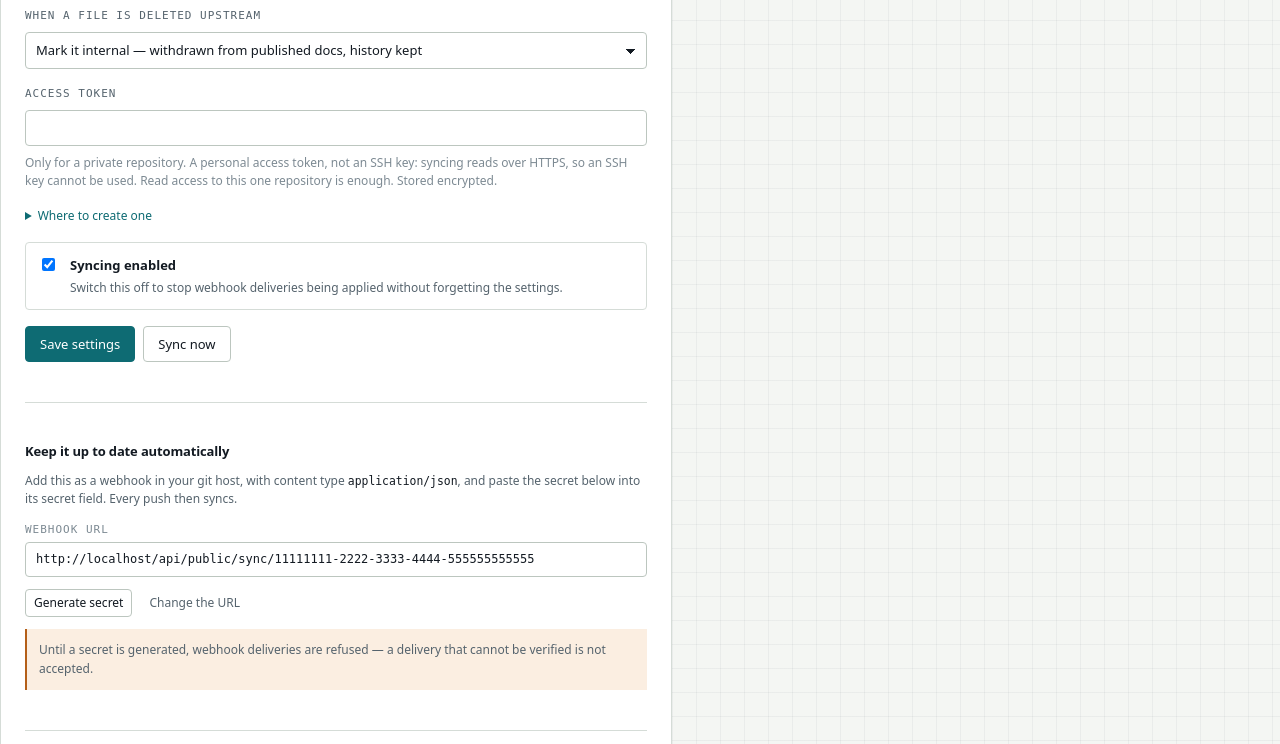
GitSyncPanel › runs a sync on request and reports the outcome
(page scrolled)
Click the button "Sync now".
click(187, 344)  # box [143,326,231,362]
(page scrolled)
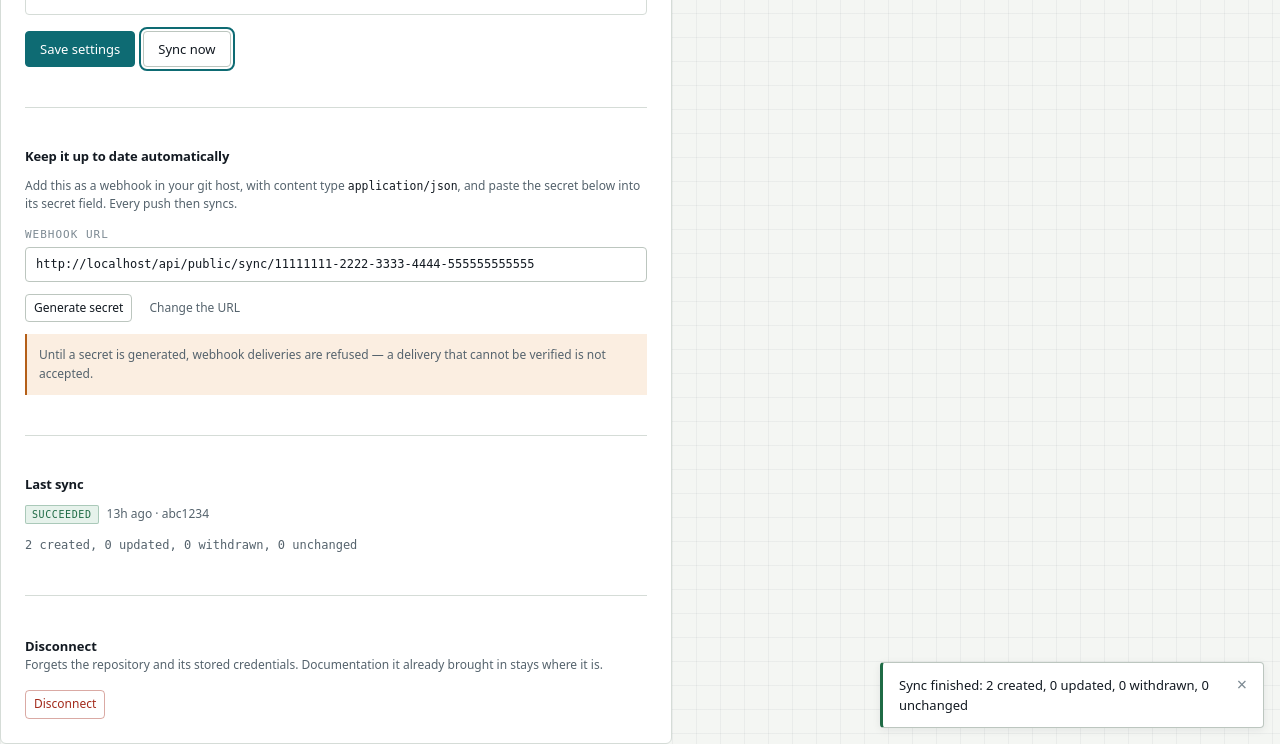
Result: the text "Succeeded" is shown at [25,505,99,524]
Result: the text "2 created, 0 updated, 0 withdrawn, 0 unchanged" is shown at [25,538,357,552]
